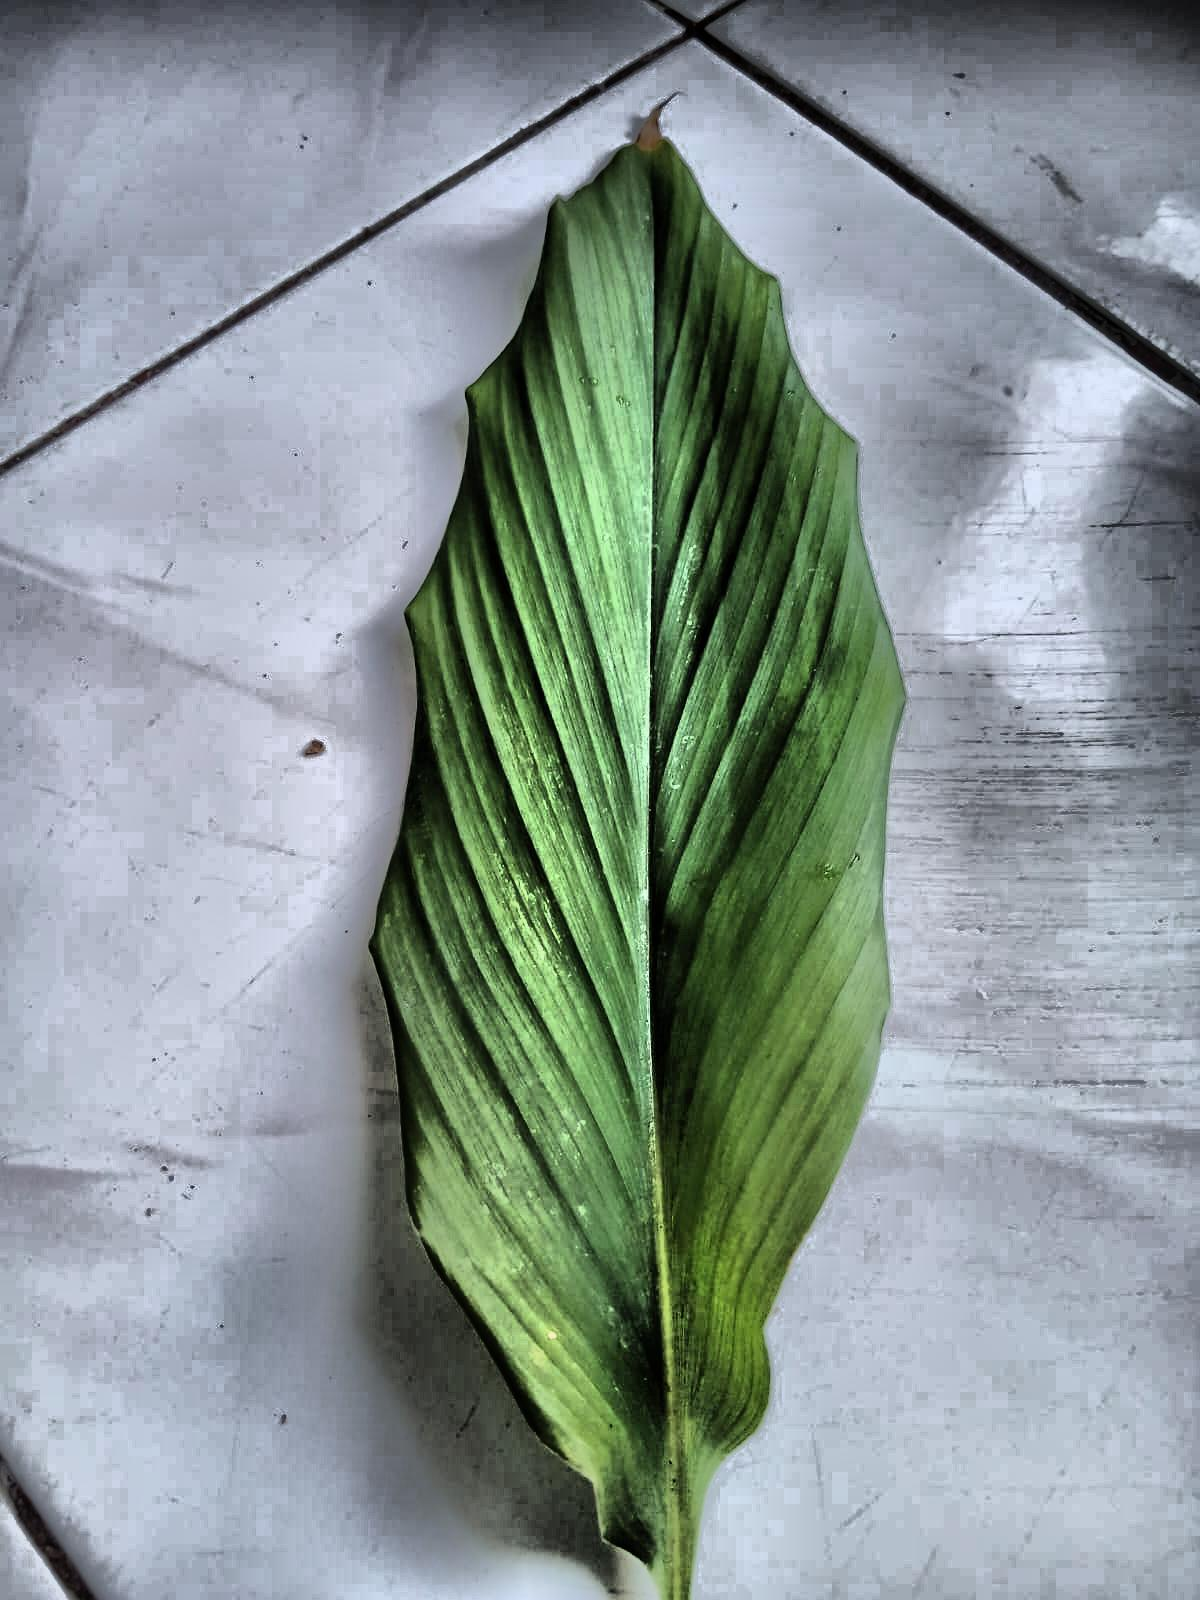daun kunyit: (372, 129, 903, 1599)
